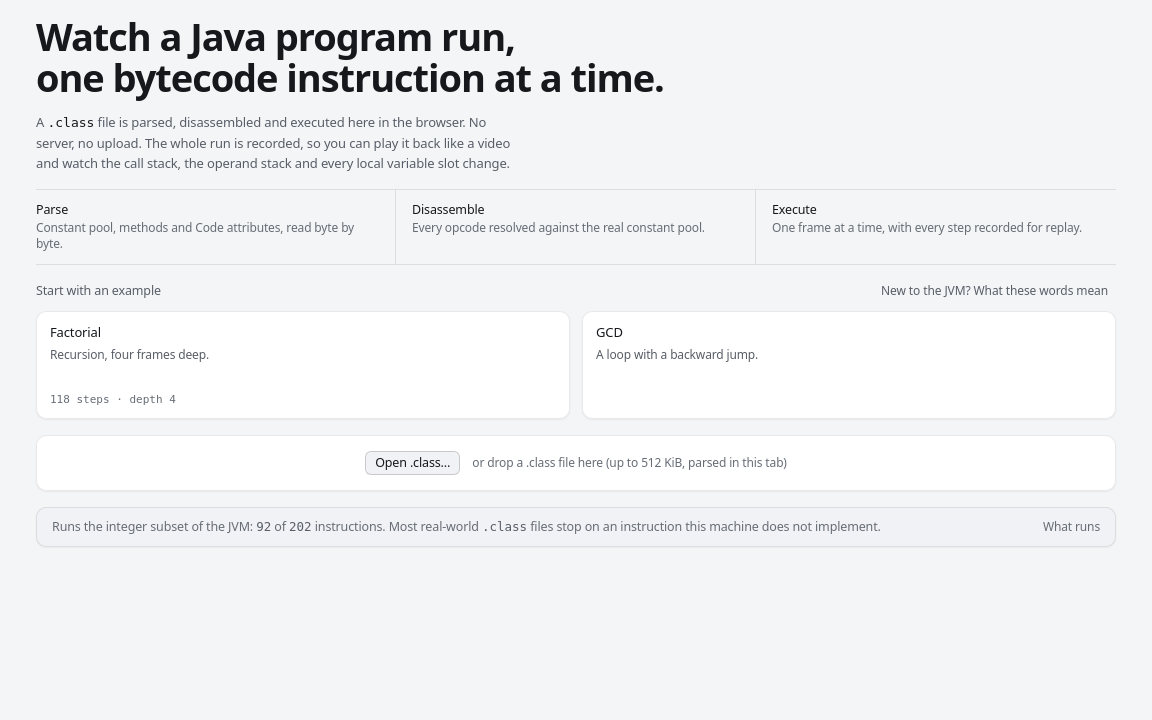
Test case: WelcomeScreen › offers the vocabulary without pushing the examples down
Step 1. Click the button with test id "welcome-glossary" → (994, 291), box [873, 281, 1116, 301]
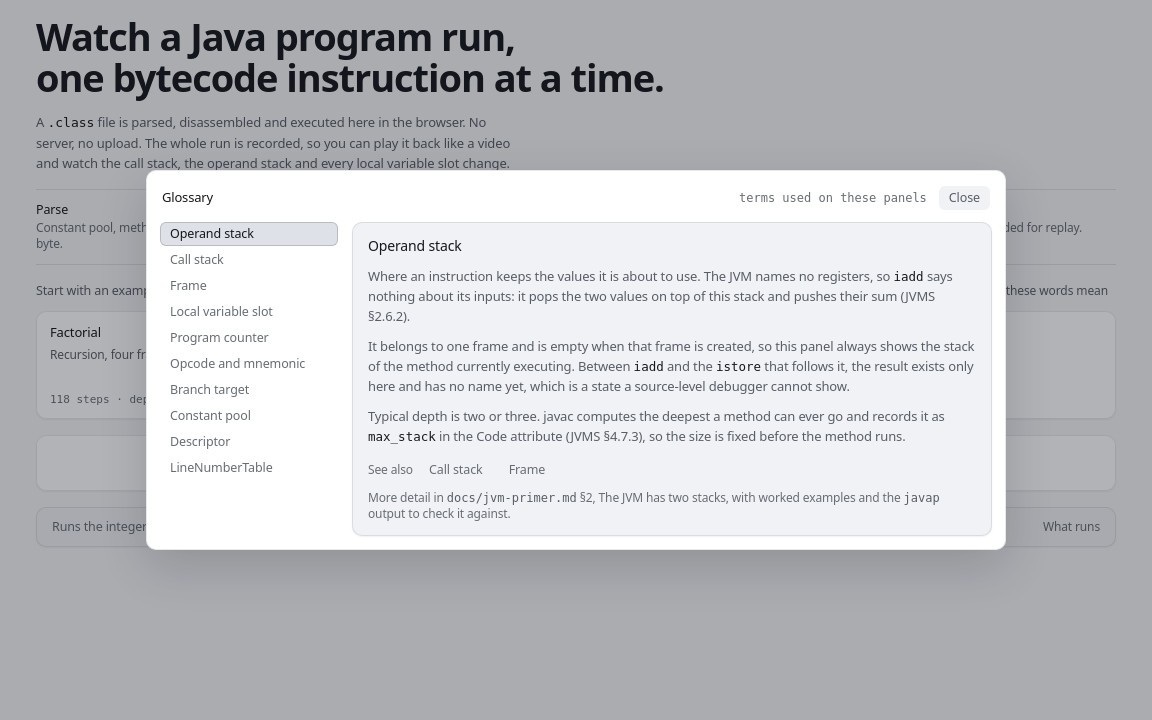
Expected: the dialog "Glossary" is shown, [146, 170, 1006, 550]
